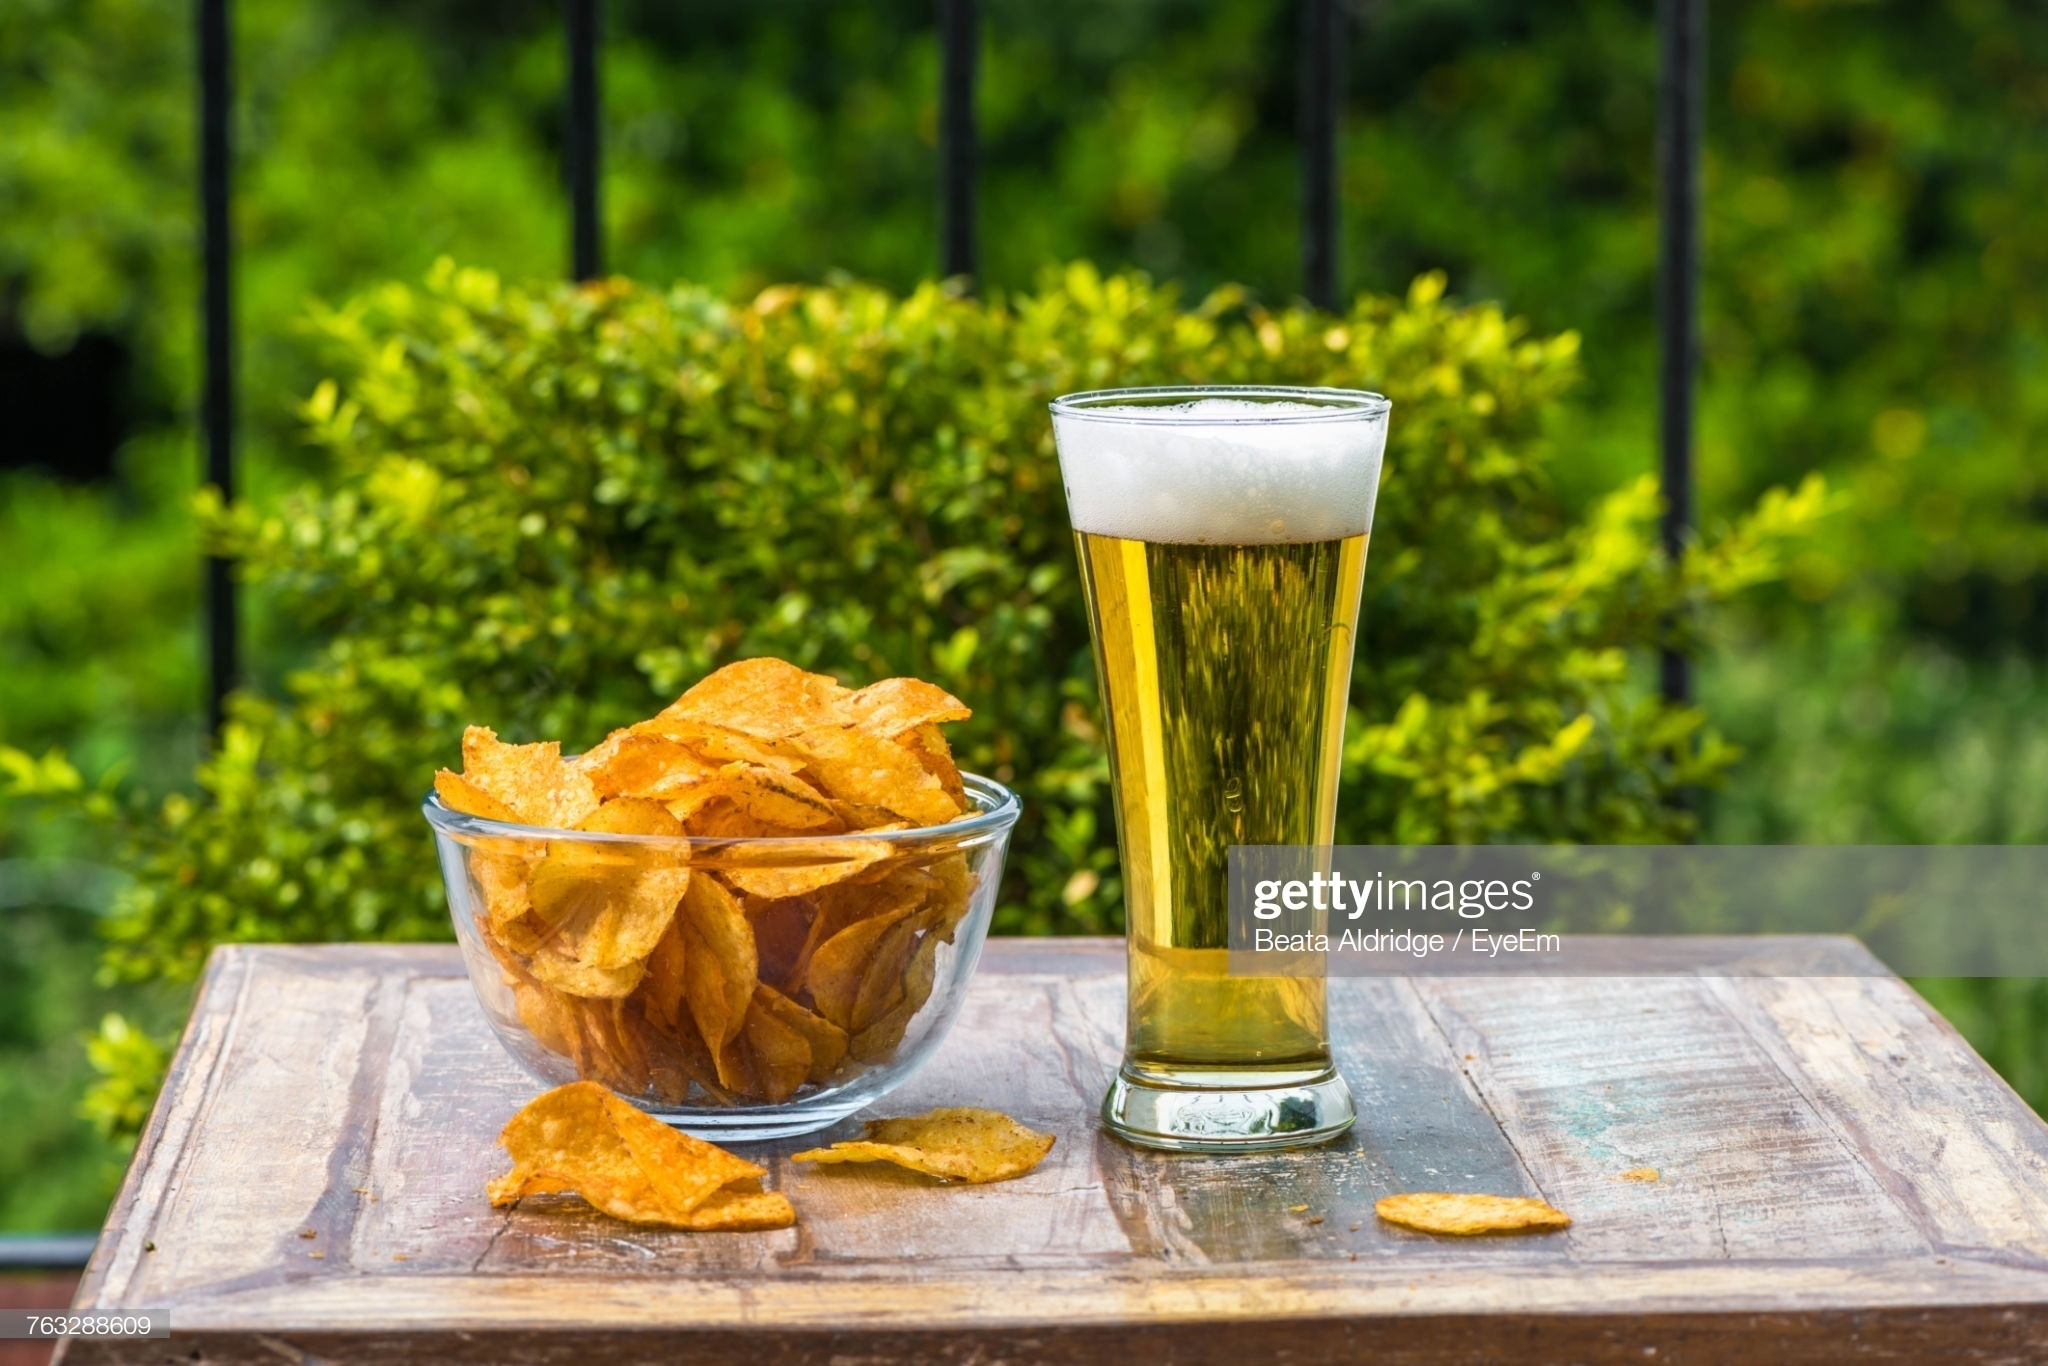whiskey: (1071, 383, 1385, 1166)
